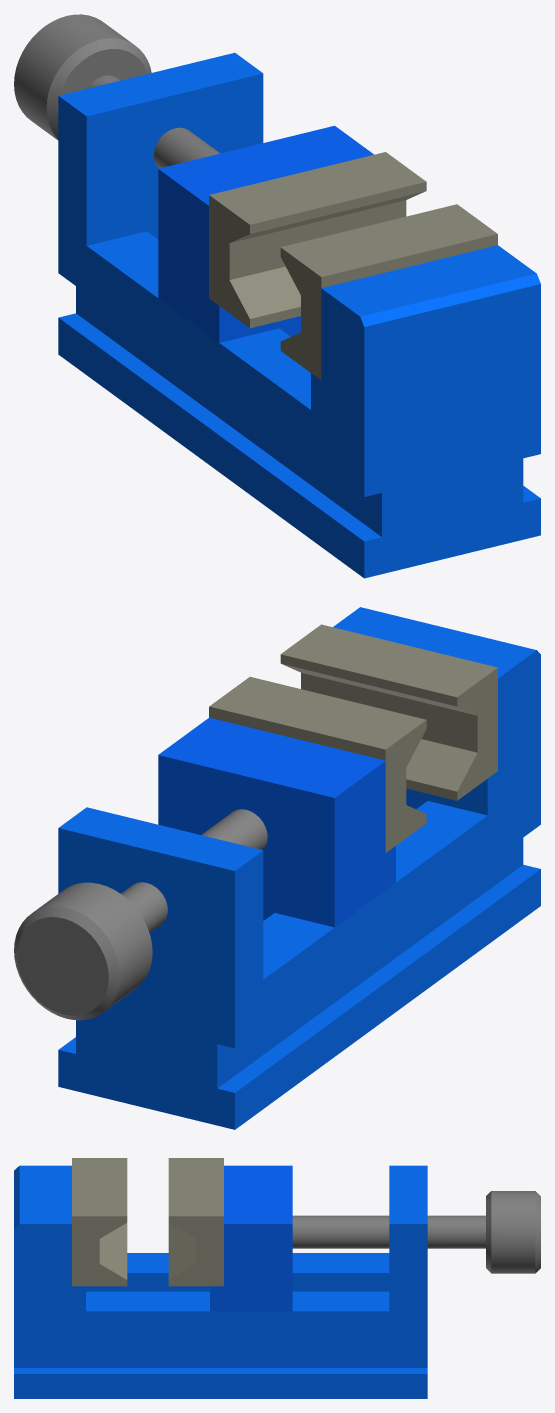
3 renders of one model, top to bottom at view 1: azimuth 30°, elevation 25°; view 2: azimuth 150°, elevation 25°; view 3: azimuth 270°, elevation 25°, orthographic. The views are drawn at different scales.
Visible parts, largest first — view 1: 2_sem_peca; view 2: 2_sem_peca; view 3: 2_sem_peca.
Boxes of the visible parts, x1,y1,x2,y2 form: 2_sem_peca: (14,14,540,578); 2_sem_peca: (14,607,540,1129); 2_sem_peca: (14,1158,540,1398).
Bounding box in the file's own units: 1.39 × 2.03 × 5.32.
